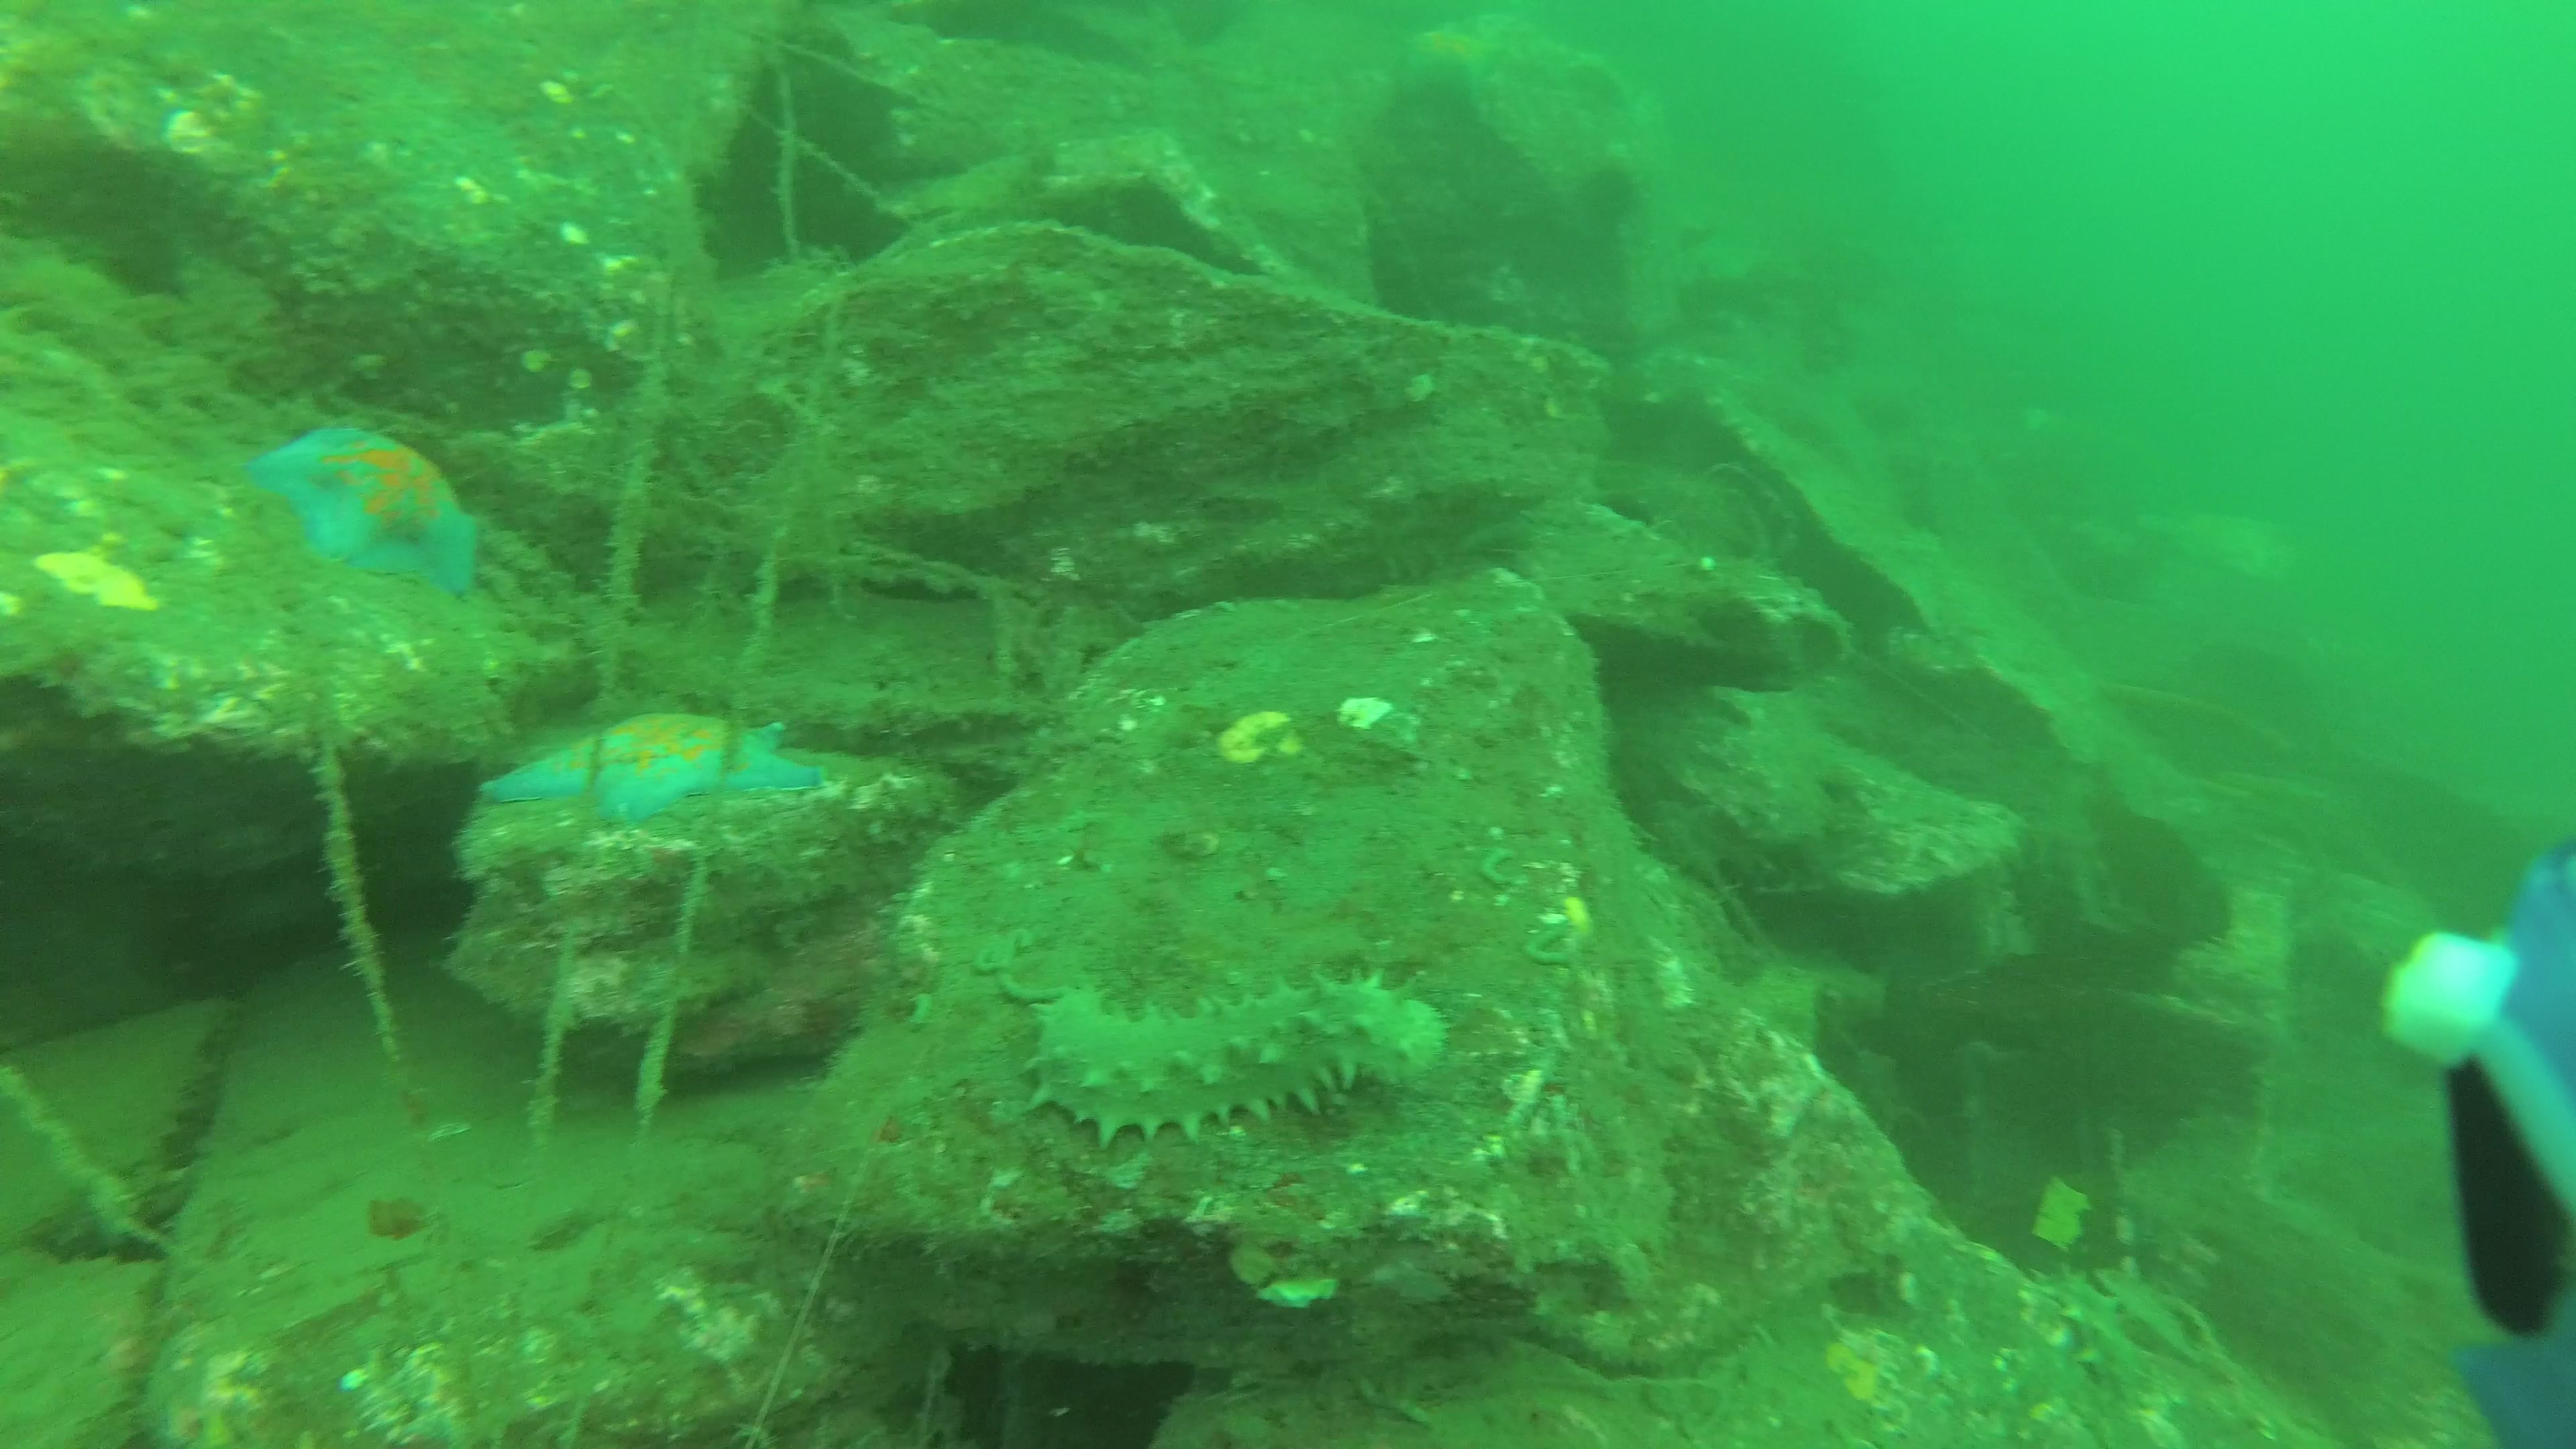holothurian: (1016, 970, 1451, 1148)
starfish: (471, 706, 833, 828), (242, 425, 487, 591)
